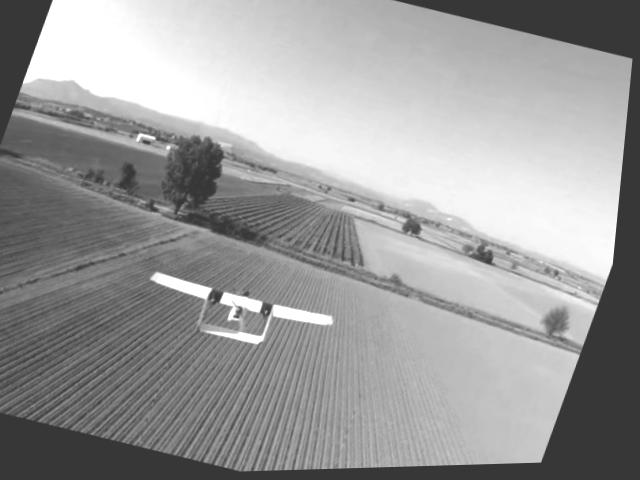hedef: (134, 251, 358, 378)
